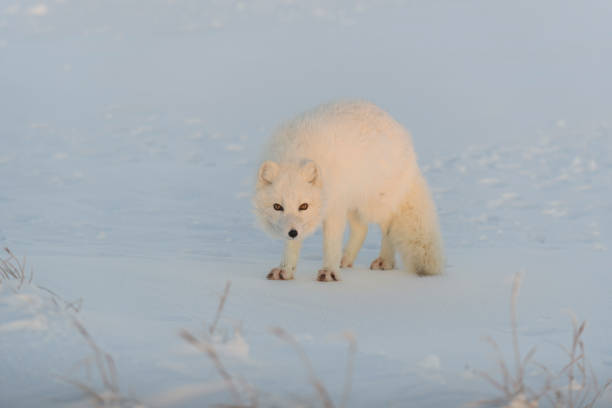arcticfox: (261, 174, 322, 253)
